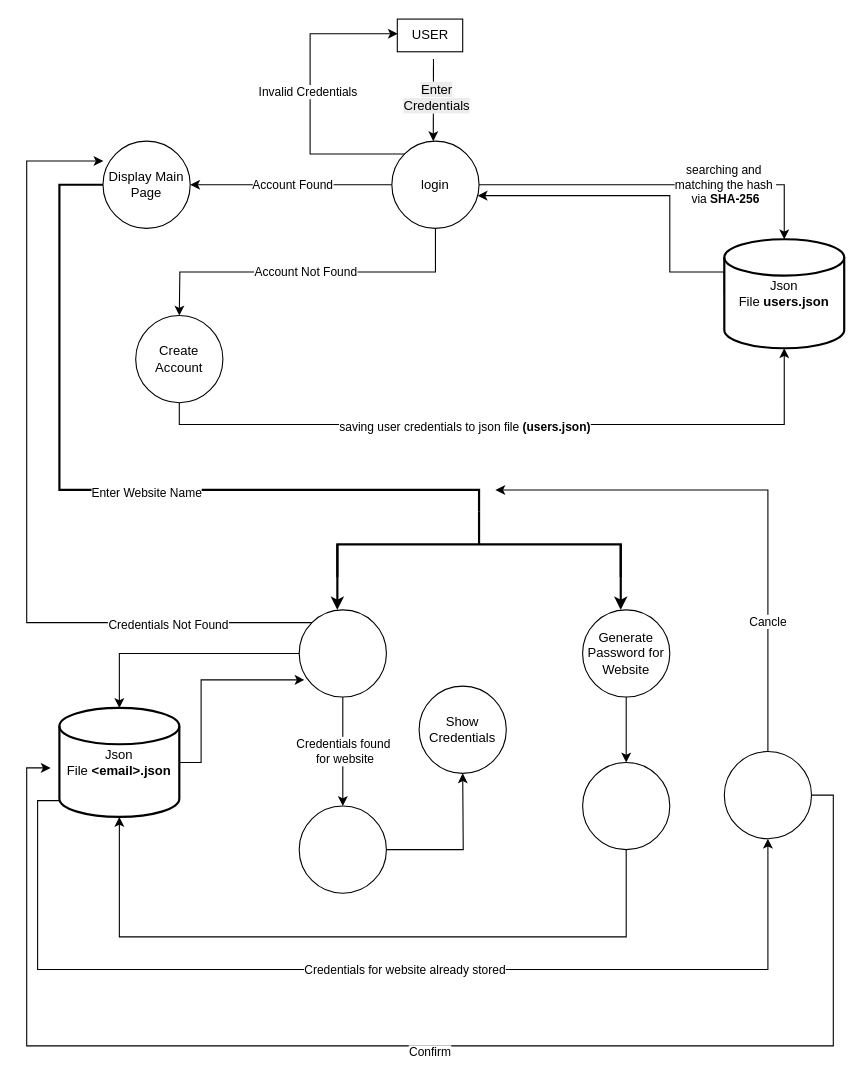
Some shapes in this 864 by 1078 pixel diagram are drawn without their labels. The centre of each missing label's shape, as x and y in pixels:
"Confirm Updation" goes at (767,794).
"Decrypting Password via AES" goes at (342,849).
"Search for Website" goes at (342,653).
"Store Credentials" goes at (626,805).
